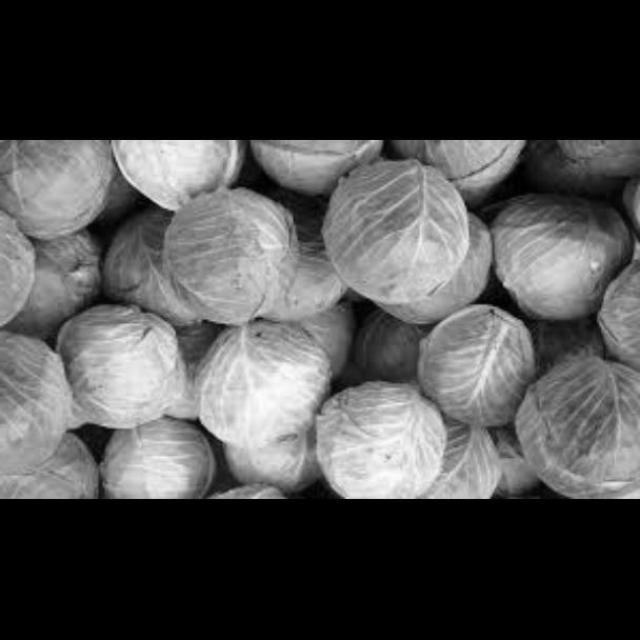cai bap: (147, 311, 341, 445), (301, 164, 472, 316), (490, 331, 640, 500), (468, 182, 632, 336), (156, 176, 296, 348), (281, 382, 450, 501), (411, 292, 543, 434), (29, 301, 163, 434), (0, 142, 126, 246), (101, 142, 246, 231), (1, 388, 111, 500), (239, 142, 397, 212), (78, 416, 216, 496), (408, 142, 541, 218), (1, 333, 73, 472), (0, 235, 80, 314)
